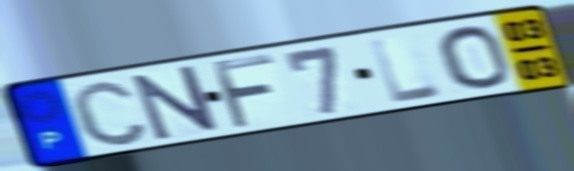7: (280, 43, 344, 117)
C: (66, 77, 152, 148)
F: (208, 52, 279, 132)
L: (366, 34, 446, 106)
N: (129, 63, 223, 143)
O: (433, 24, 514, 90)
